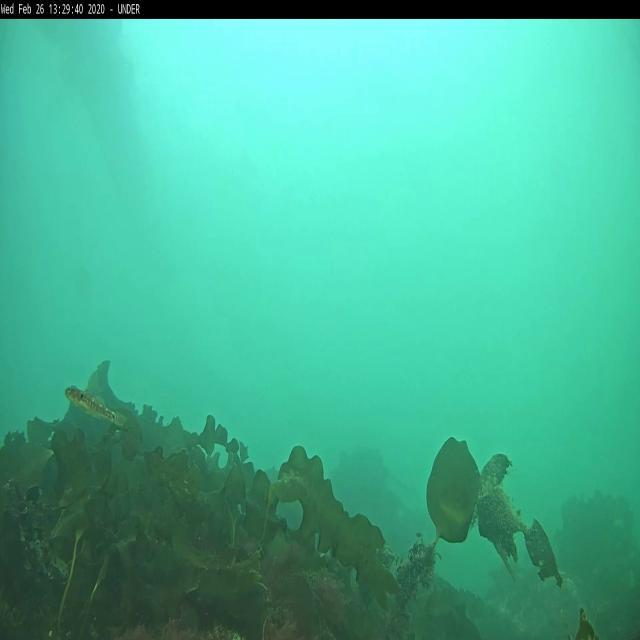fish: (65, 384, 128, 432)
